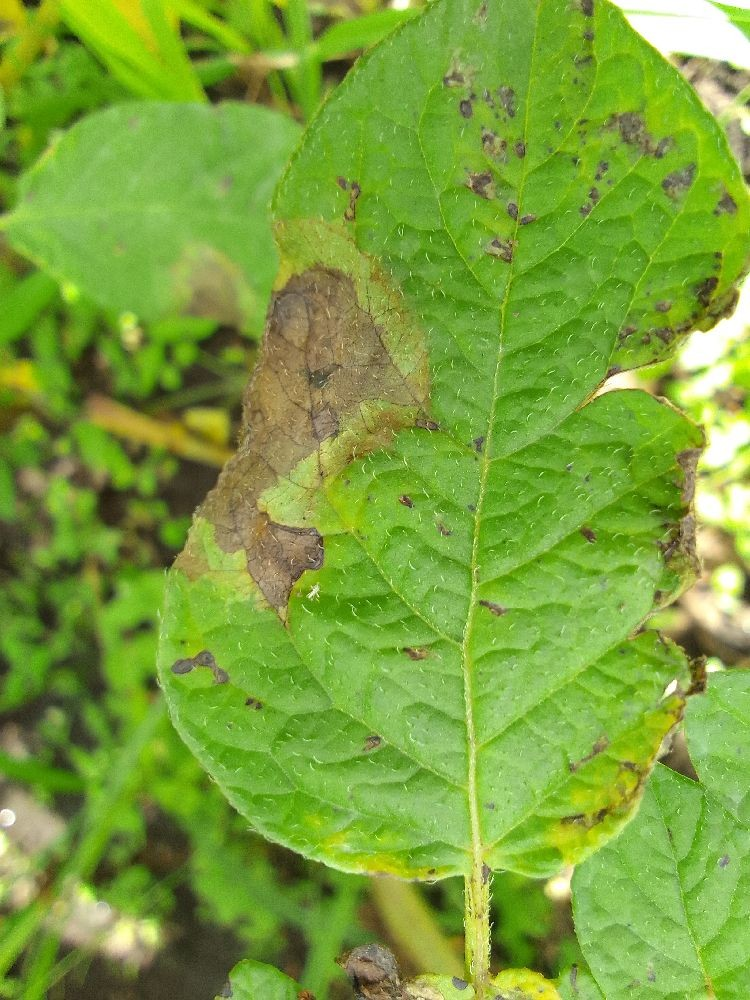late_blight: (0, 247, 451, 635), (20, 774, 279, 1000), (624, 415, 750, 728), (308, 874, 443, 1000)
